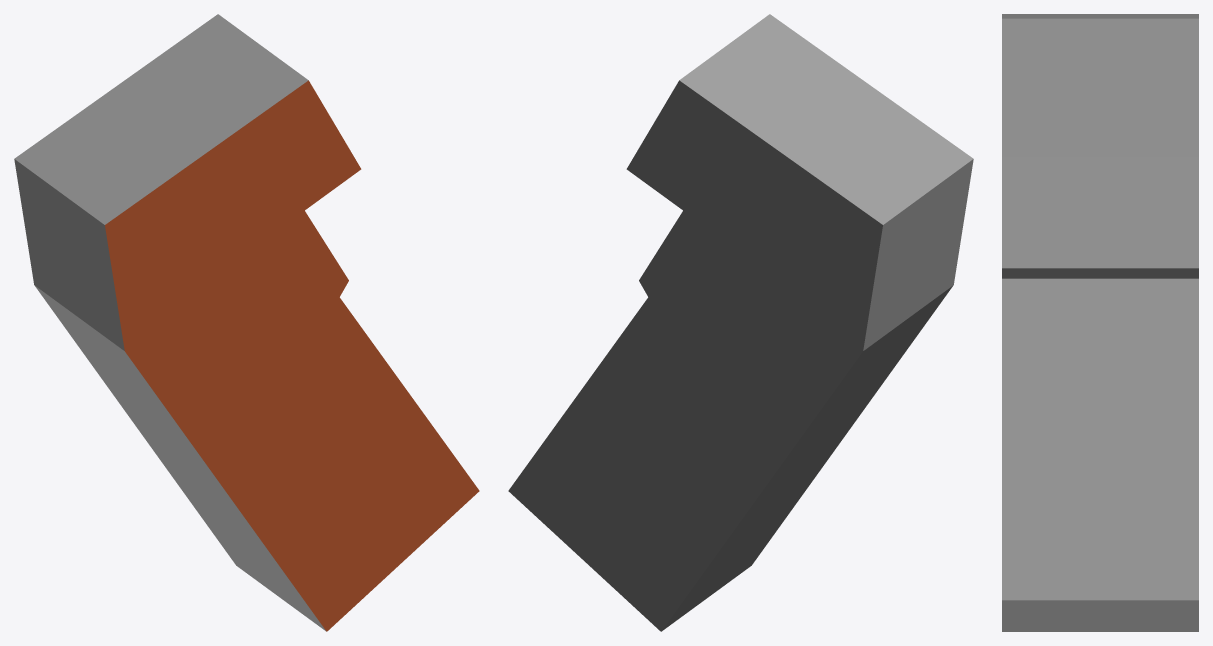
File: construction_6119_assumed_A_Casa_h6m.obj
3 views of the same model, side by side, from view 1: azimuth 30°, elevation 25°; view 2: azimuth 150°, elevation 25°; view 3: azimuth 270°, elevation 25° (orthographic). The views are drawn at different scales.
Visible parts, largest first — view 1: construction_6119_assumed_A_Casa; view 2: construction_6119_assumed_A_Casa; view 3: construction_6119_assumed_A_Casa.
Part boxes in pixels (left/top/right/bottom): construction_6119_assumed_A_Casa: left=14, top=14, right=479, bottom=631; construction_6119_assumed_A_Casa: left=508, top=14, right=973, bottom=631; construction_6119_assumed_A_Casa: left=1002, top=14, right=1198, bottom=631.
Size of the model in its own units: 14.33 by 20.31 by 6.
